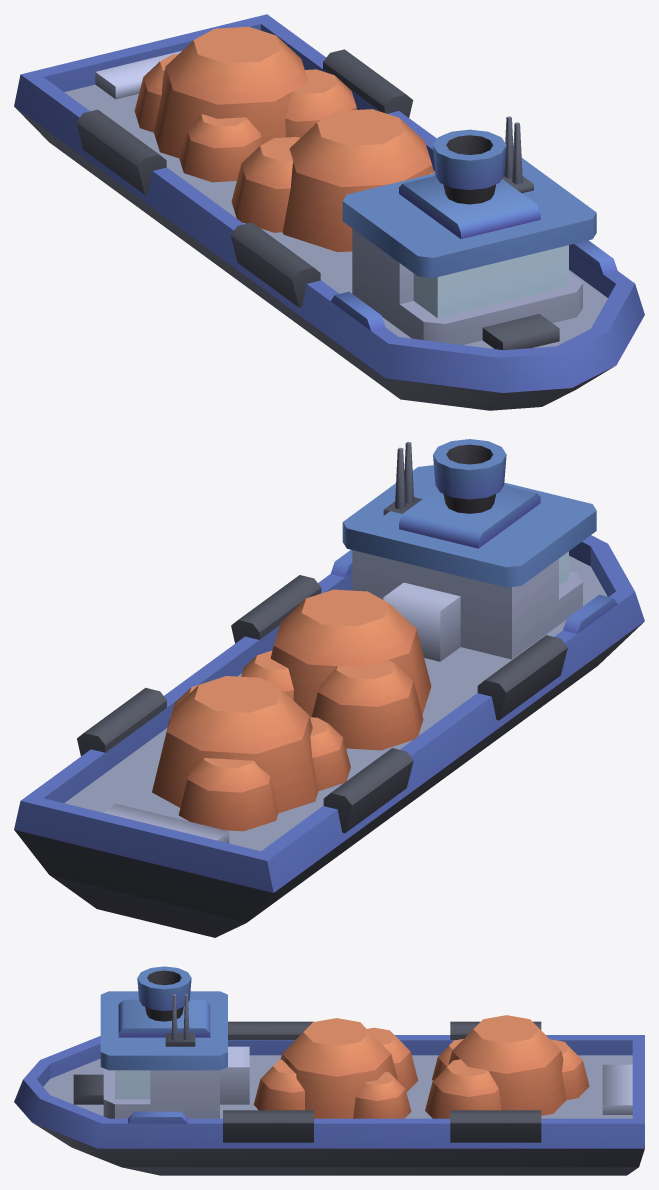
File: k-watercraft-ship-cargo-b.glb
The picture shows the model from 3 angles, top to bottom: view 1: azimuth 30°, elevation 25°; view 2: azimuth 150°, elevation 25°; view 3: azimuth 270°, elevation 25°; orthographic projection. The views are drawn at different scales.
Visible parts, largest first — view 1: ship-cargo-b, cargo-b, cargo-a; view 2: ship-cargo-b, cargo-b, cargo-a; view 3: ship-cargo-b, cargo-a, cargo-b.
Part boxes in pixels (left/top/right/bottom): ship-cargo-b: left=14, top=14, right=644, bottom=410; cargo-b: left=134, top=26, right=357, bottom=182; cargo-a: left=231, top=109, right=433, bottom=252; ship-cargo-b: left=14, top=439, right=644, bottom=937; cargo-b: left=152, top=676, right=350, bottom=831; cargo-a: left=241, top=589, right=431, bottom=750; ship-cargo-b: left=14, top=966, right=644, bottom=1175; cargo-a: left=253, top=1018, right=418, bottom=1118; cargo-b: left=425, top=1015, right=589, bottom=1118.
Bounding box in the file's own units: 3.92 × 3.3 × 10.55.
1 material, 1 textured.
